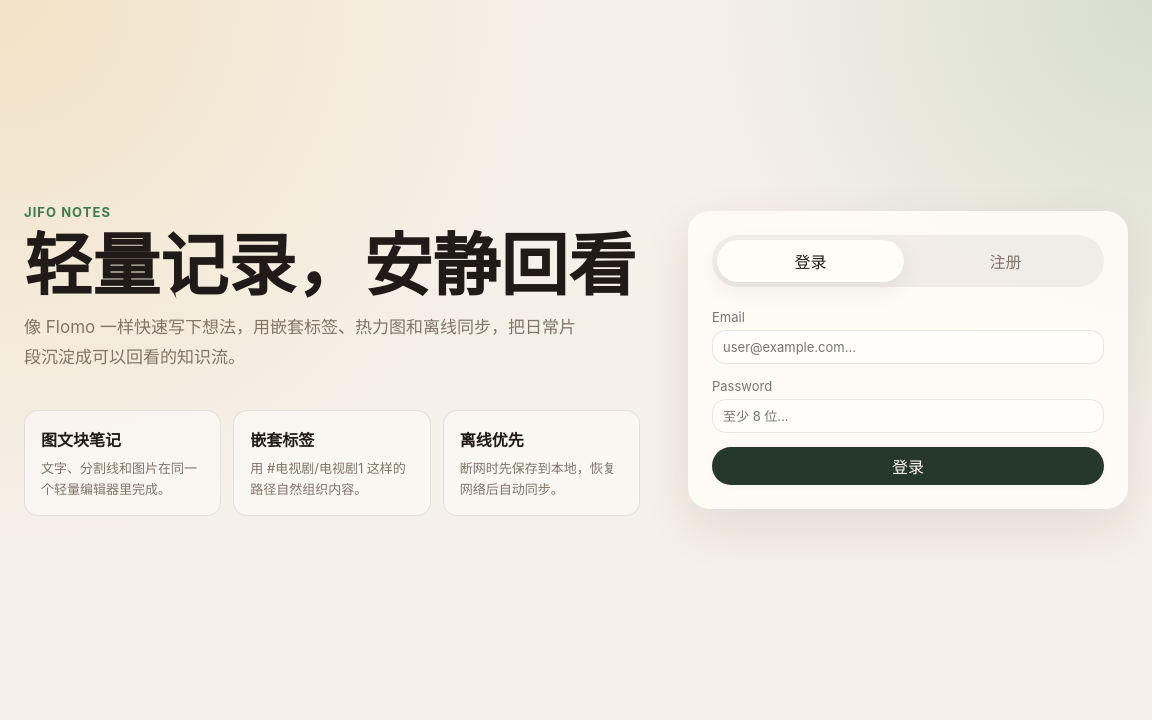
Test: LoginPage › 提交失败时显示错误提示
Type "user@example.com" into the field labelled "Email" at (908, 347), box [712,330,1104,364]
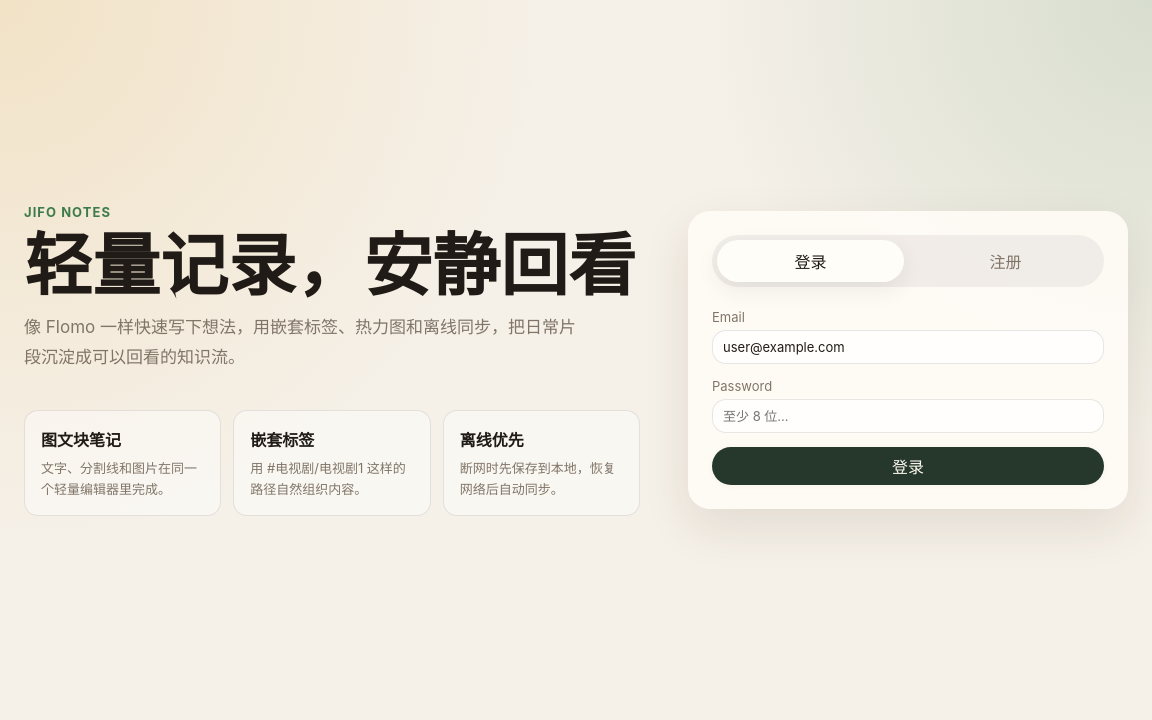
Type "wrong-password" into the password field labelled "Password" at (908, 416), box [712,399,1104,433]
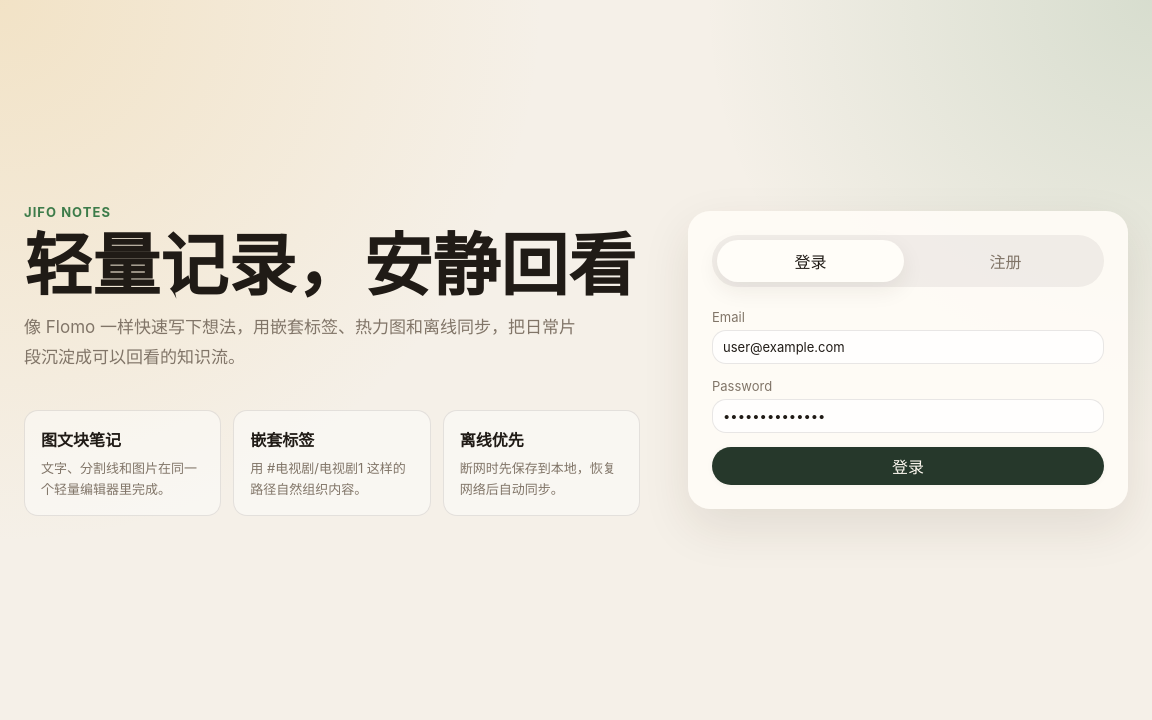
Click the button "登录" below "Password" at (908, 466), box [712,447,1104,485]
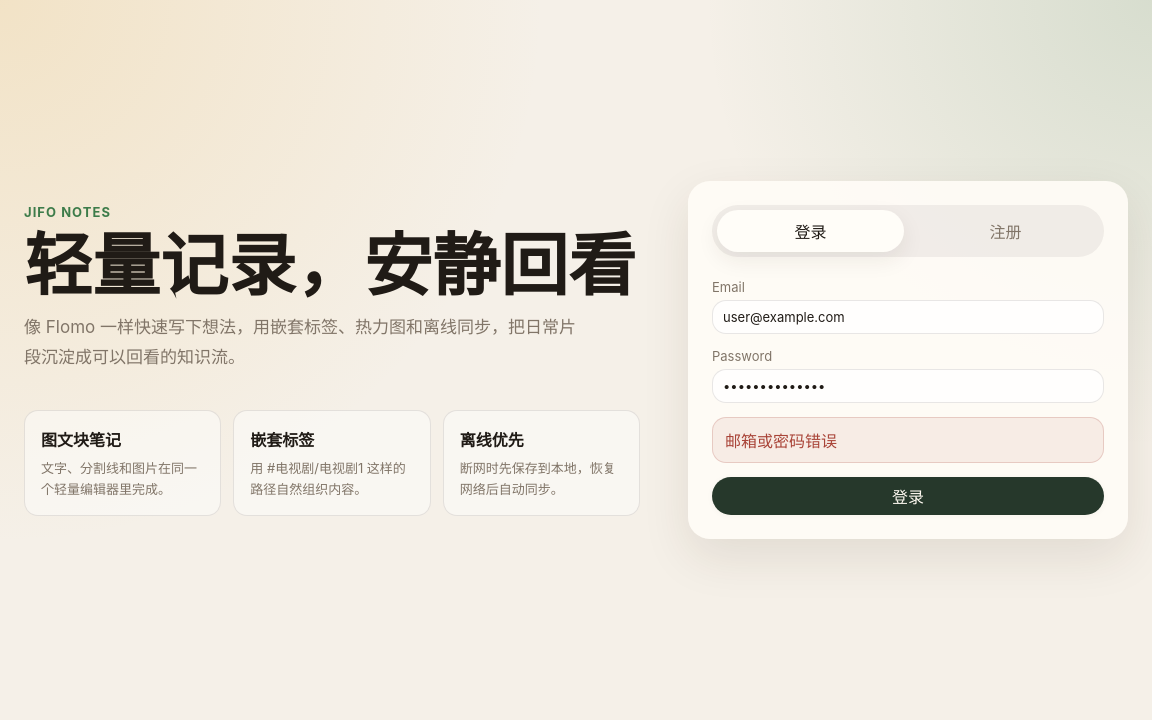
expect the message reads "邮箱或密码错误": met, box [725,431,837,451]
